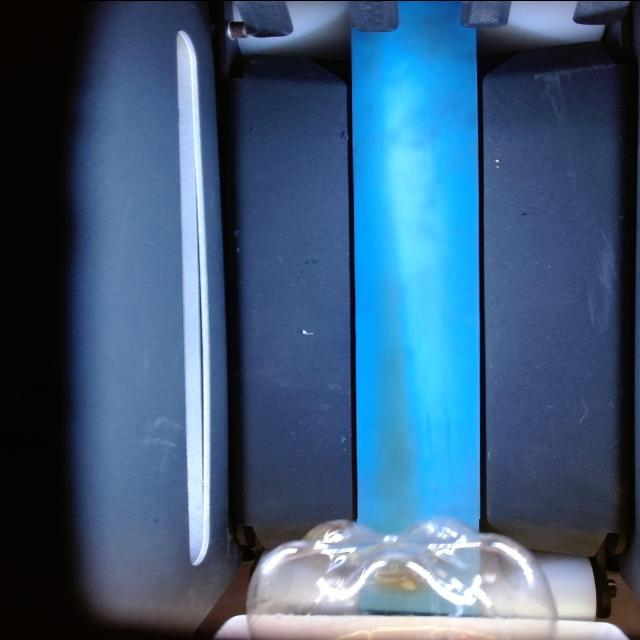bottom: (246, 518, 555, 640)
